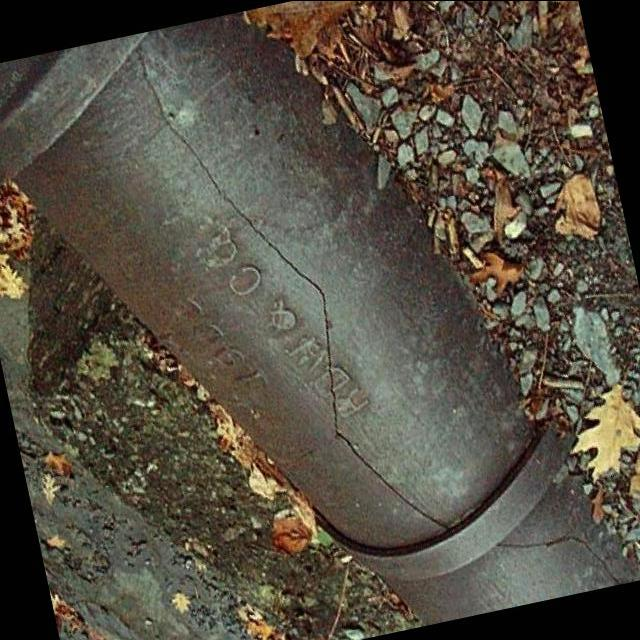defect: (132, 37, 452, 529), (493, 529, 625, 580)
